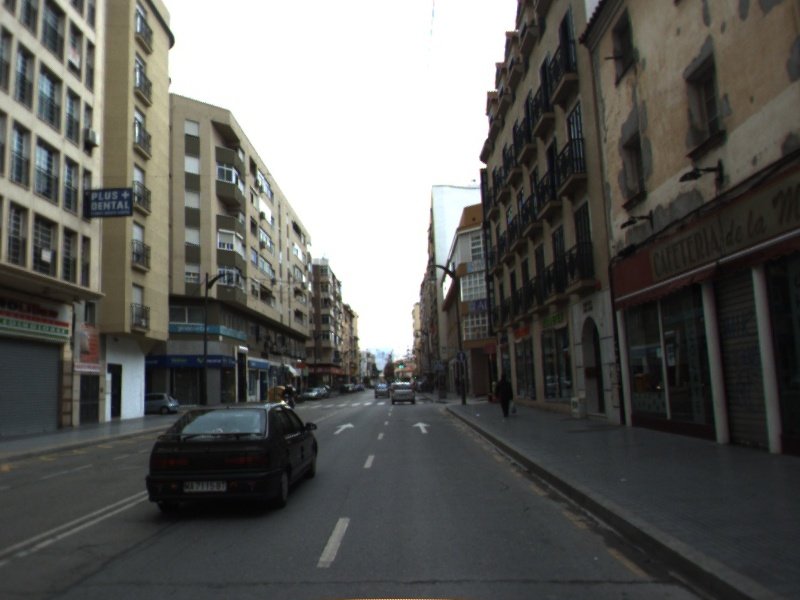STRAIGHT: (331, 421, 356, 436), (411, 420, 433, 435)
